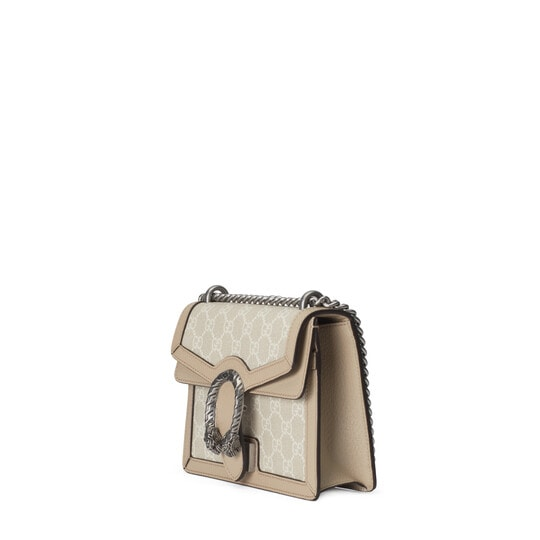Gucci: (147, 266, 381, 507), (203, 365, 263, 454), (196, 308, 290, 361)
